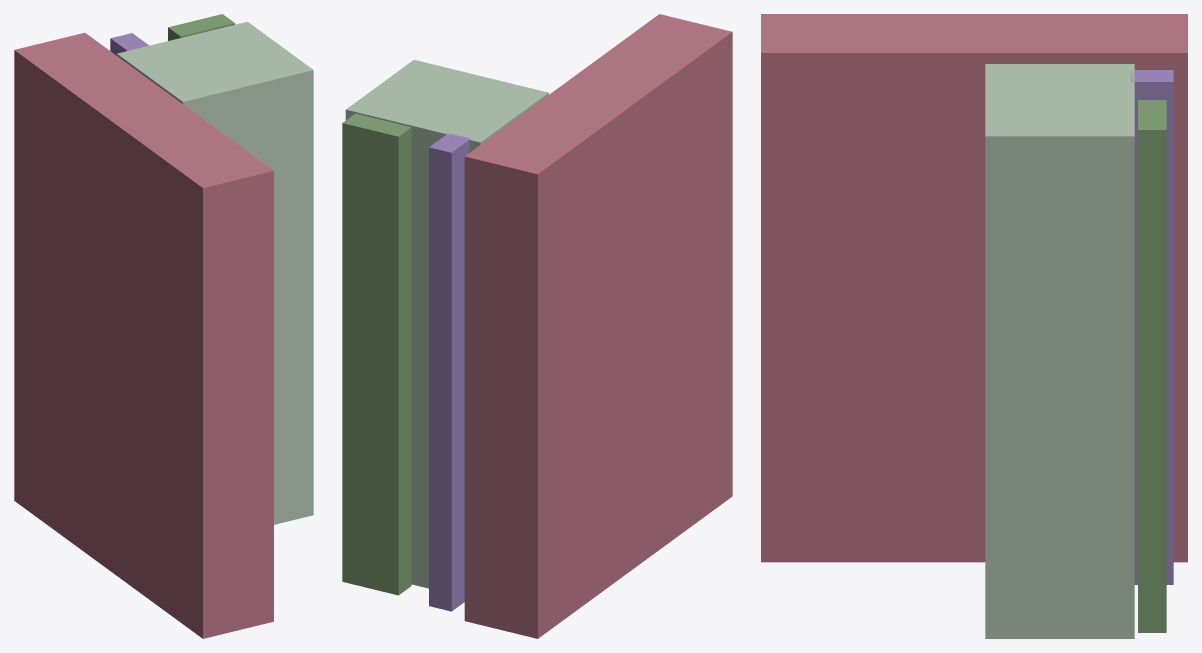
File: 199502_pred.glb
3 renders of one model, left to right at view 1: azimuth 30°, elevation 25°; view 2: azimuth 150°, elevation 25°; view 3: azimuth 270°, elevation 25°, orthographic. The views are drawn at different scales.
Parts seen in each view (by area): view 1: world; view 2: world; view 3: world.
Part boxes in pixels (x1,y1,x2,y2): world: [14, 14, 313, 638]; world: [342, 14, 732, 638]; world: [761, 14, 1187, 638].
Size of the model in its own units: 3.85 by 7.9 by 6.
